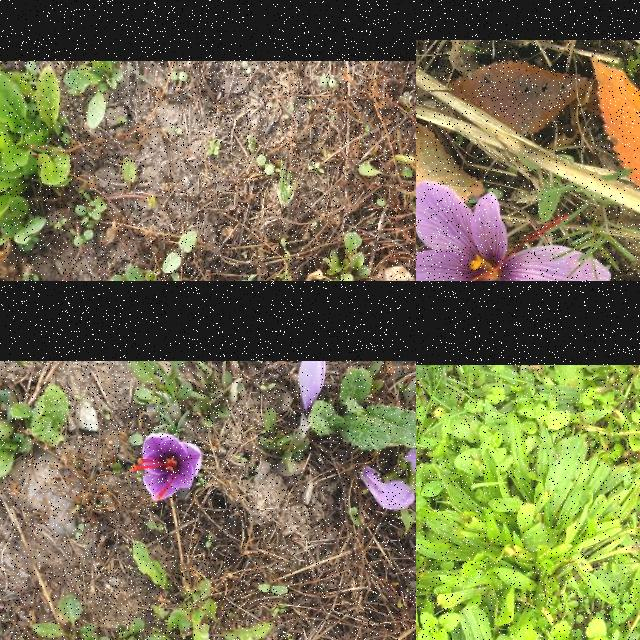flower: (416, 181, 611, 281), (132, 434, 202, 501), (296, 361, 326, 417)
